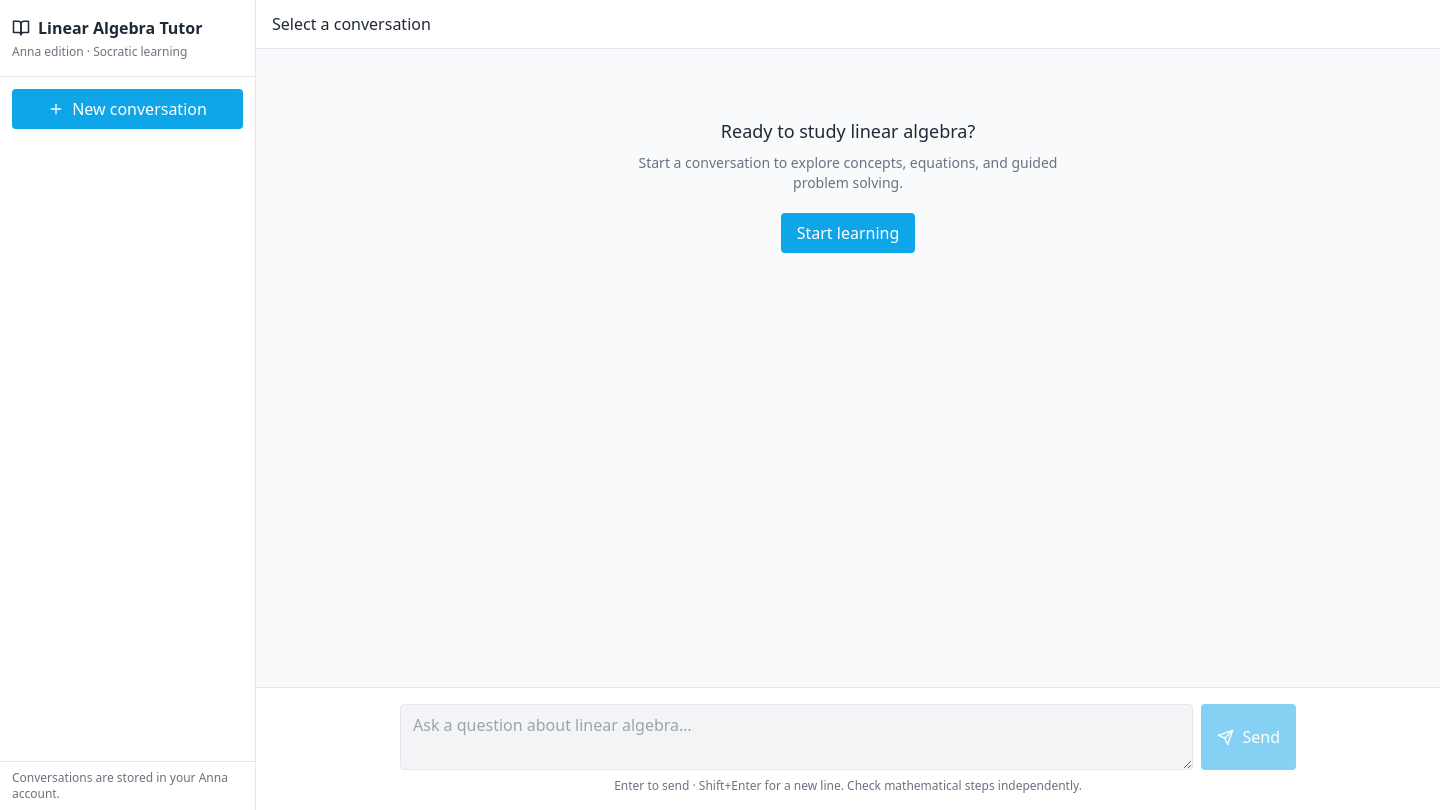
Test case: Anna tutoring window › changes starter questions with the chosen course topic and keeps free-form entry
Click the button "Start learning" at (848, 233), box [781, 213, 915, 253]
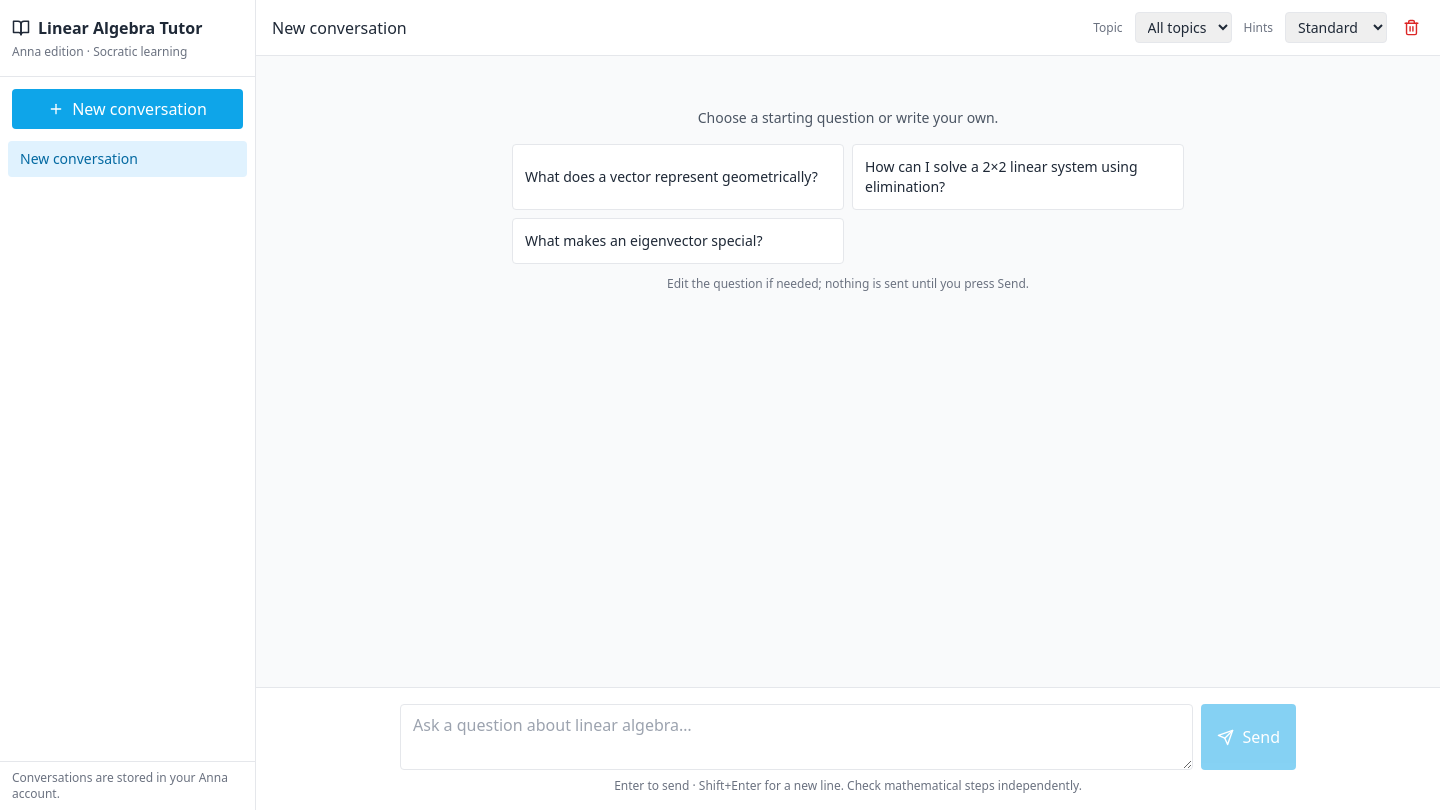
Select "vectors" in the dropdown labelled "Topic" at (1183, 28), box [1134, 12, 1232, 43]
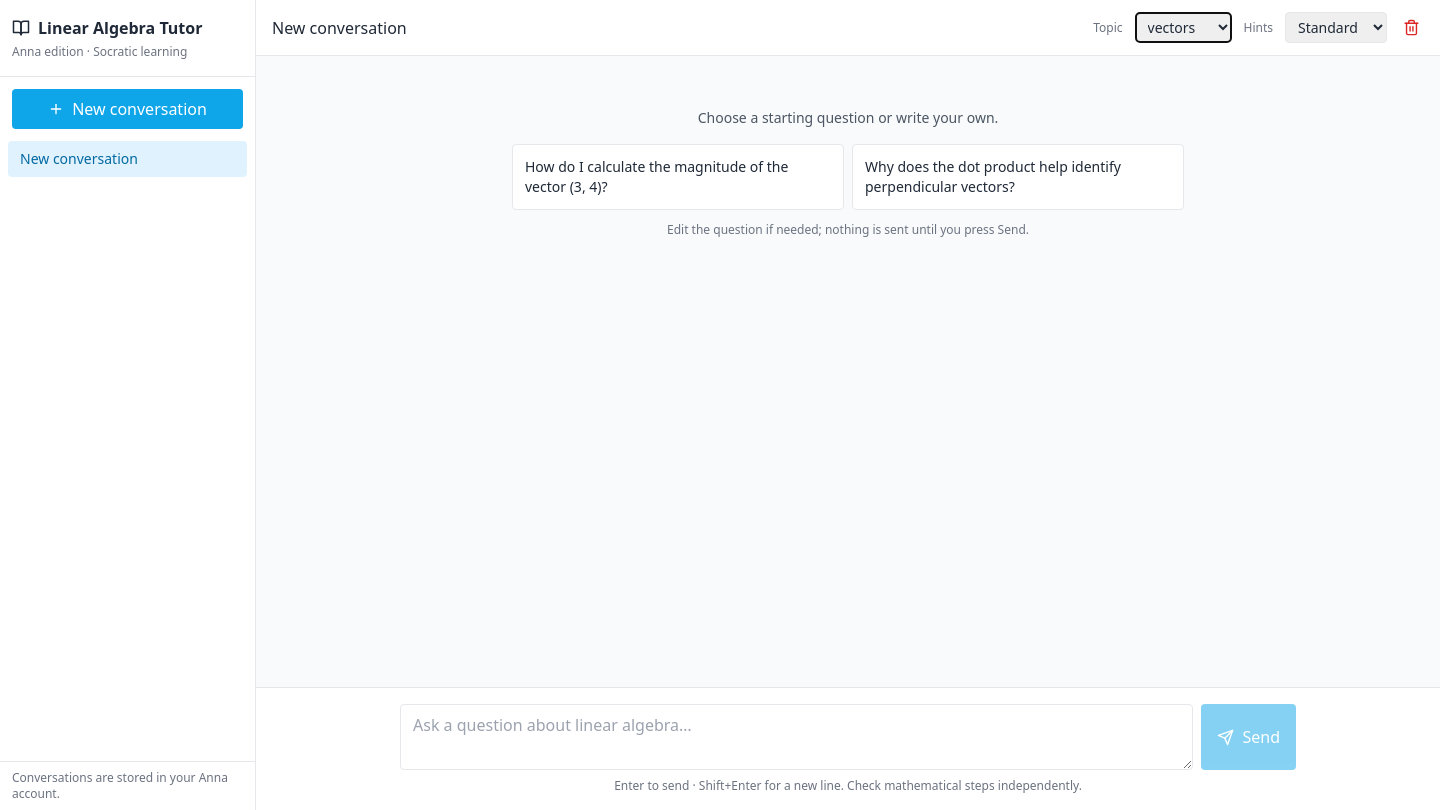
Result: the button "Why does the dot product help identify perpendicular vectors?" is shown
Result: the button "What makes an eigenvector special?" is gone
Click the button "Why does the dot product help identify perpendicular vectors?" at (1018, 177), box [852, 144, 1184, 210]
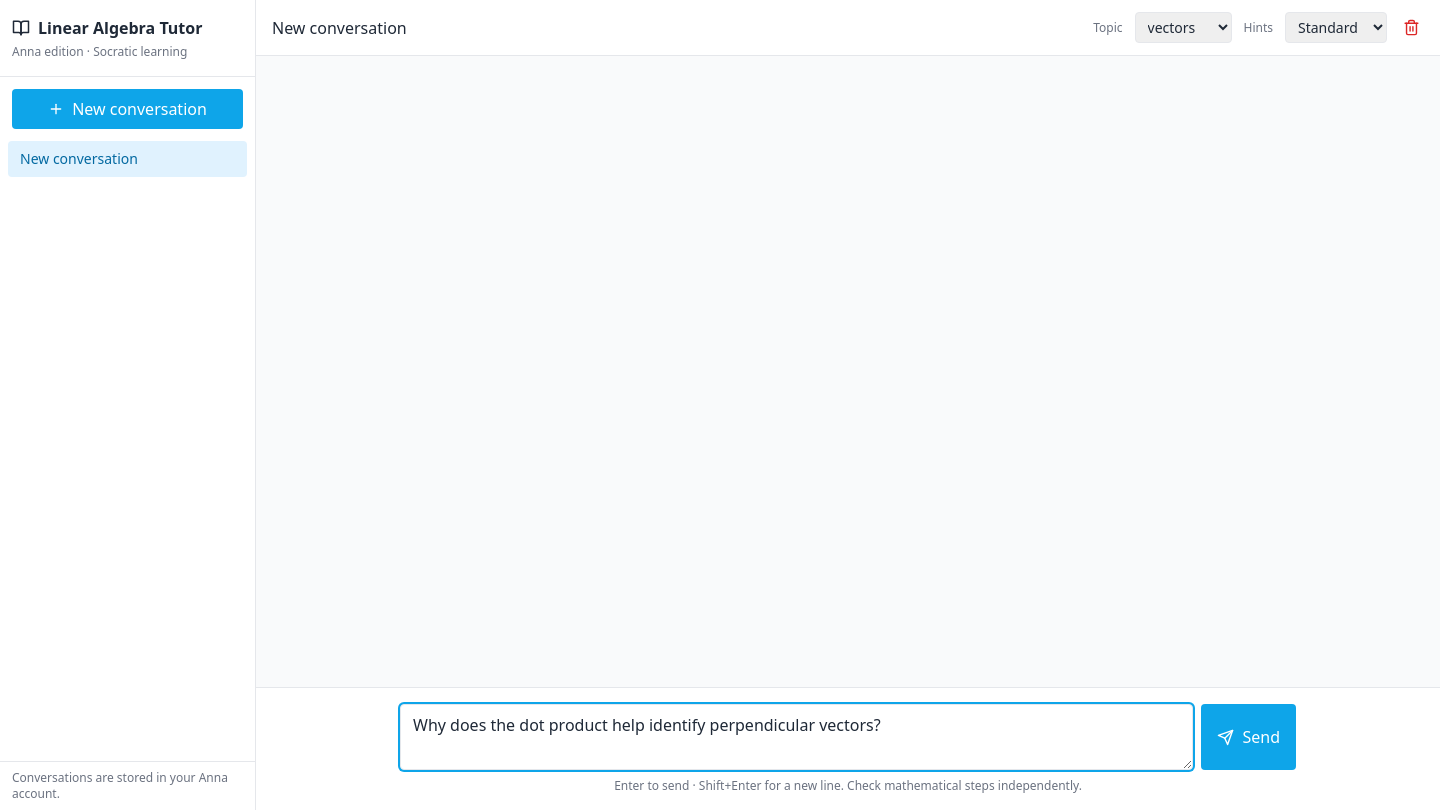
Clear the text box named "Ask a linear algebra question" at (797, 737), box [400, 704, 1194, 770]
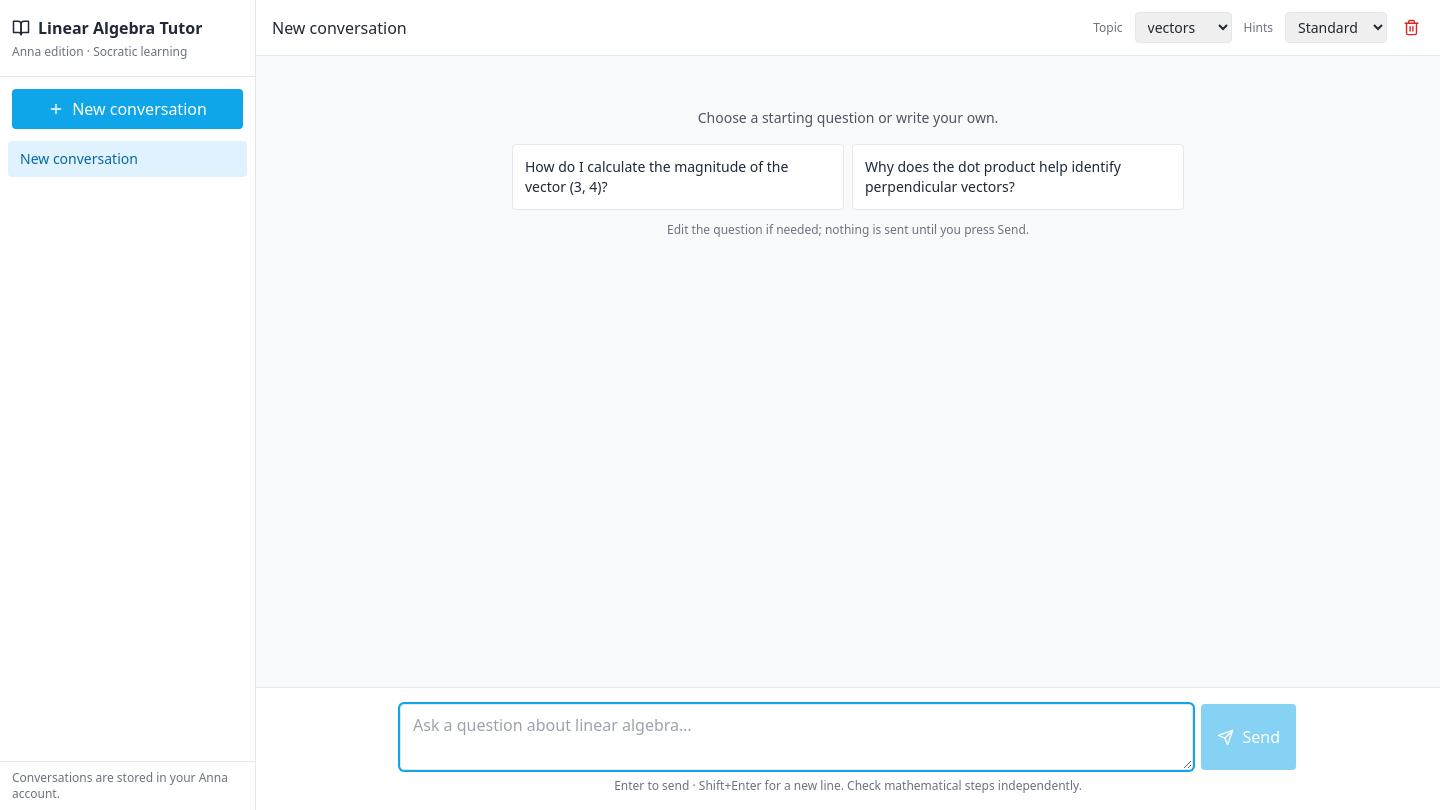
Result: the element named "Suggested starting questions" is shown at [512, 144, 1184, 210]
Type "How do I normalize a vector?" into the text box named "Ask a linear algebra question" at (797, 737), box [400, 704, 1194, 770]
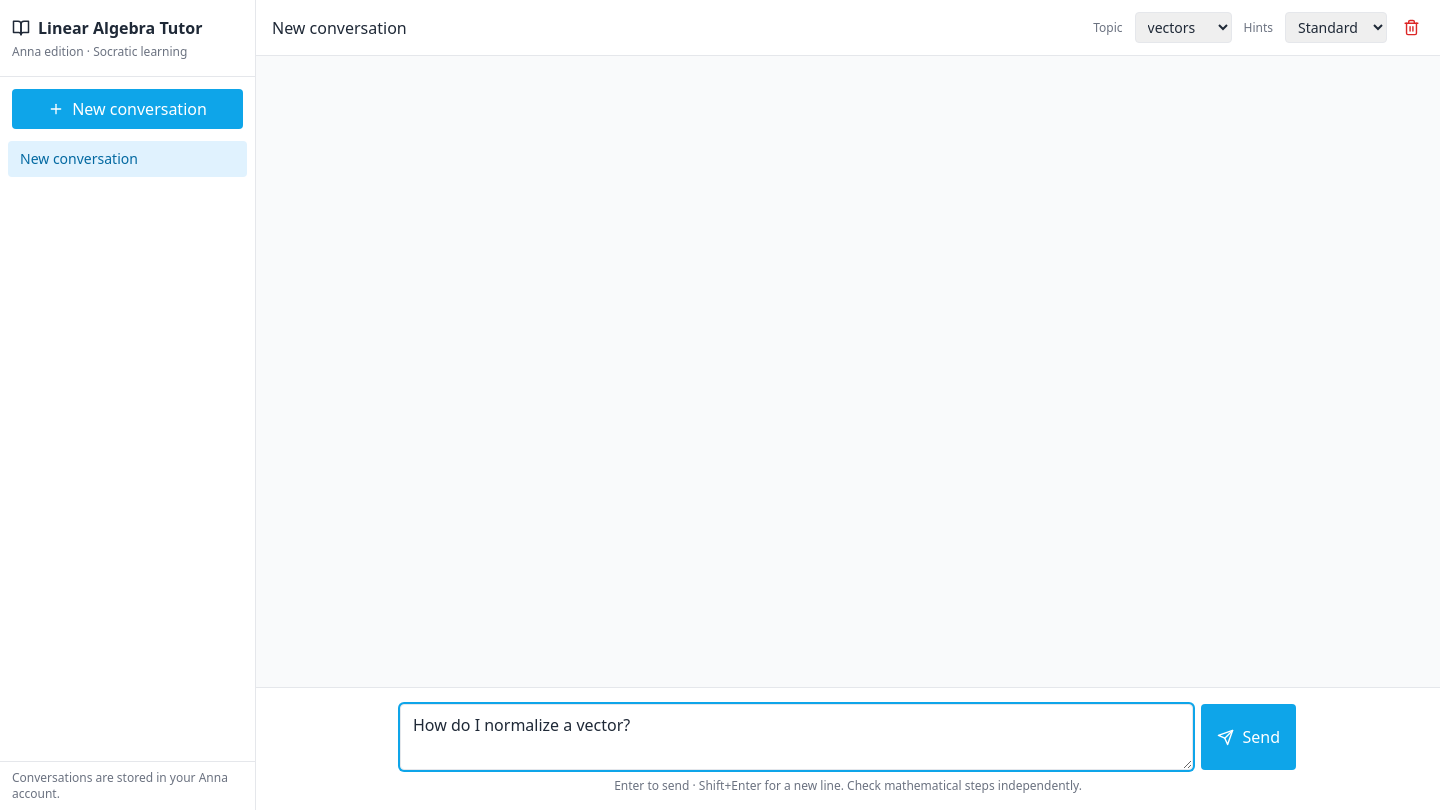
Click the button "Send" at (1249, 737), box [1202, 704, 1296, 770]
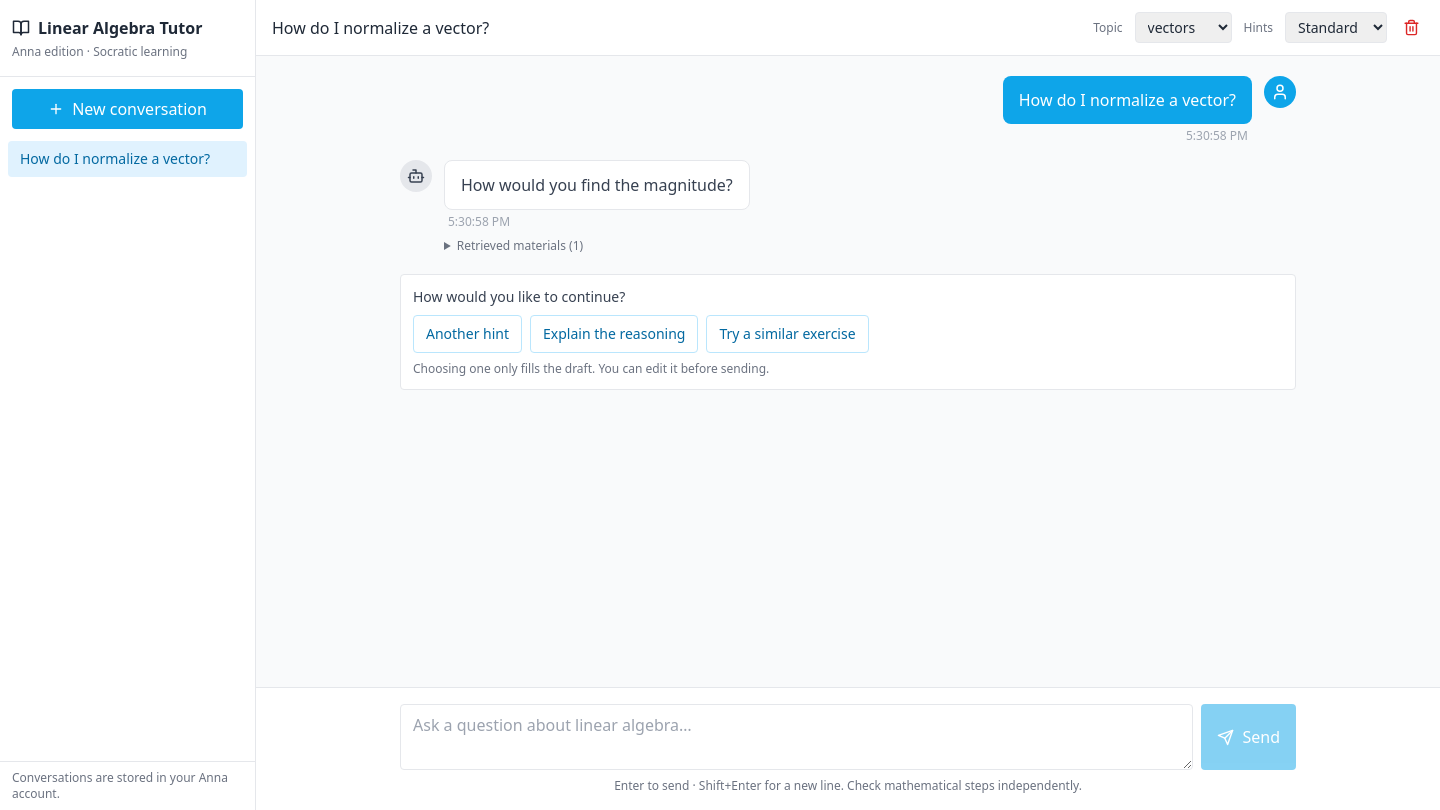
Result: the text "How would you find the magnitude?" is shown at [461, 173, 733, 197]
Result: the button "How do I normalize a vector?" is shown at [8, 141, 247, 177]
